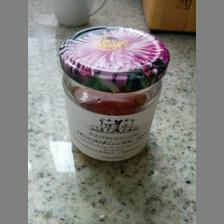Honig: (54, 23, 174, 166)
